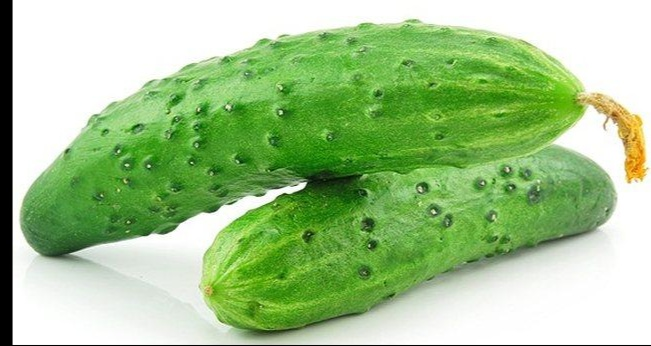cucumber: (29, 11, 588, 252), (218, 148, 611, 322)
